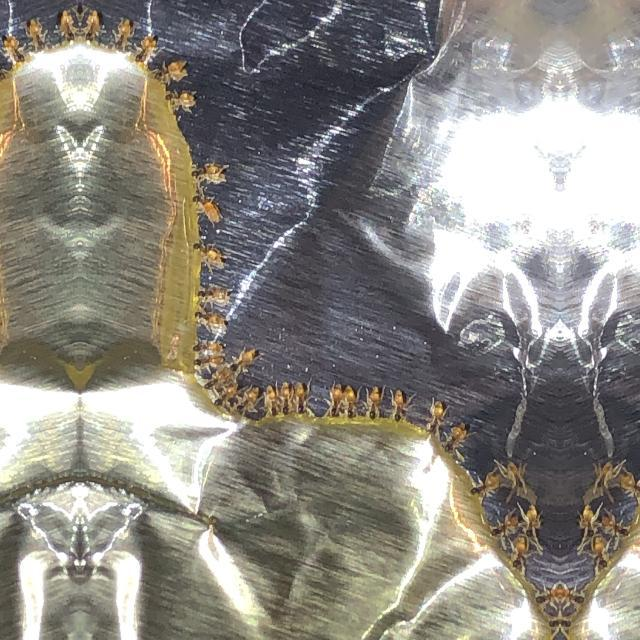Tapinoma: (186, 157, 236, 187), (468, 468, 502, 508), (424, 396, 450, 446), (191, 302, 229, 336), (192, 190, 224, 226), (152, 55, 188, 87), (180, 350, 234, 370), (192, 281, 232, 307), (230, 341, 260, 375), (530, 580, 560, 614), (560, 580, 590, 614), (162, 86, 198, 114), (186, 242, 222, 270), (490, 511, 522, 541), (598, 511, 630, 541), (110, 17, 134, 55), (134, 34, 158, 72), (2, 34, 26, 72), (389, 387, 411, 428), (235, 382, 261, 416), (290, 378, 312, 418), (618, 468, 640, 508), (26, 17, 49, 55), (504, 456, 528, 492), (592, 456, 616, 492), (85, 4, 102, 54), (59, 4, 76, 54), (328, 379, 358, 407), (442, 421, 468, 453), (364, 382, 384, 422), (187, 338, 229, 356), (526, 501, 542, 545), (578, 501, 594, 545), (202, 366, 230, 390), (215, 381, 248, 401), (262, 382, 280, 416), (512, 532, 532, 560), (588, 532, 608, 560), (0, 55, 6, 87)
